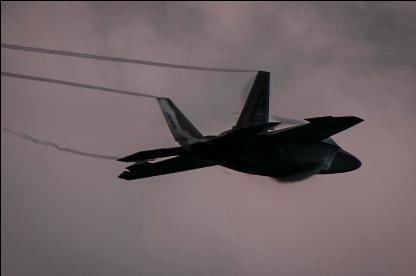F18: (115, 69, 363, 179)
